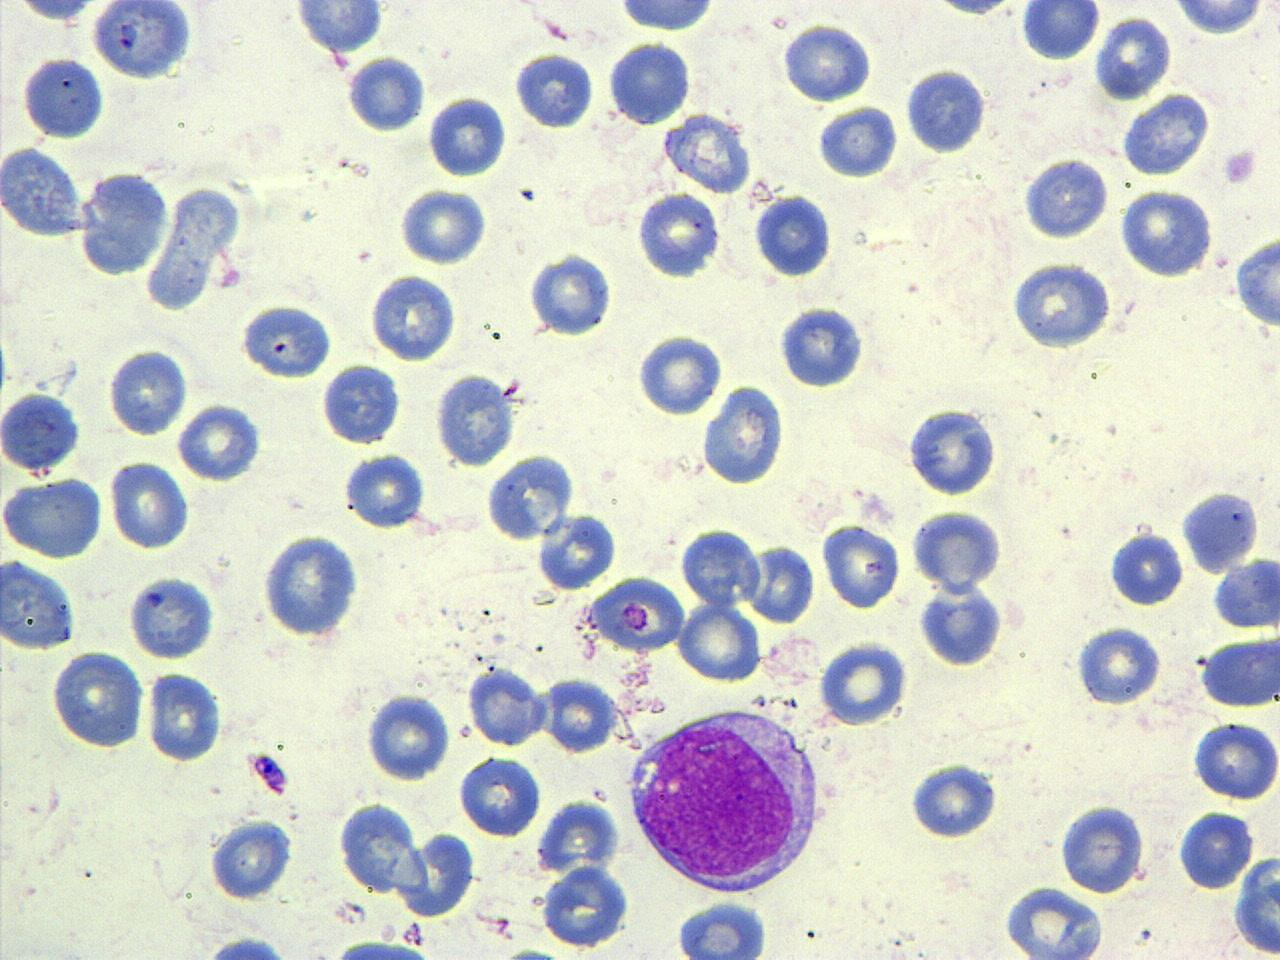Platelets: (200, 934, 289, 960), (1219, 144, 1261, 190), (247, 752, 292, 794), (502, 942, 557, 960), (0, 336, 12, 396), (62, 356, 81, 375), (1137, 928, 1153, 944), (521, 187, 537, 202), (34, 379, 48, 392), (1196, 654, 1208, 669)
RBC: (49, 646, 146, 750), (816, 636, 910, 726), (635, 328, 726, 418), (590, 572, 688, 653), (634, 189, 722, 280), (364, 690, 449, 784), (781, 19, 877, 102), (142, 668, 224, 764), (236, 301, 334, 381), (1073, 620, 1163, 708), (18, 52, 106, 141), (105, 346, 189, 438), (1004, 882, 1104, 960), (175, 398, 264, 485), (1190, 717, 1280, 803), (109, 457, 190, 550), (396, 186, 490, 266), (819, 520, 903, 610), (457, 753, 542, 839), (675, 601, 762, 685), (425, 93, 508, 179), (1176, 806, 1254, 894), (465, 666, 546, 749), (678, 526, 762, 608), (814, 102, 900, 179), (748, 541, 816, 627), (544, 672, 617, 752), (1168, 1, 1272, 40), (11, 0, 98, 26)
WBC: (622, 702, 826, 898), (140, 175, 255, 315), (258, 528, 364, 642), (76, 168, 171, 279), (1010, 256, 1119, 352), (51, 645, 148, 752), (1117, 185, 1217, 279), (0, 476, 106, 564), (366, 268, 462, 365), (904, 405, 1000, 500), (700, 381, 786, 486), (335, 796, 422, 897), (88, 0, 196, 82), (538, 858, 634, 950), (1118, 90, 1214, 181), (1, 142, 89, 242), (484, 450, 577, 544), (534, 795, 626, 889), (1057, 800, 1147, 896), (125, 572, 220, 662), (432, 370, 518, 469), (525, 249, 617, 341), (590, 574, 690, 656), (917, 578, 1008, 670), (910, 504, 1005, 592), (238, 299, 338, 382), (0, 554, 82, 654), (1020, 154, 1112, 244), (206, 814, 298, 903), (1003, 883, 1111, 959), (634, 328, 723, 419), (662, 108, 756, 195), (143, 666, 225, 764), (606, 36, 694, 127), (106, 346, 191, 440), (902, 63, 988, 156), (776, 301, 866, 389), (1074, 621, 1166, 708), (19, 54, 108, 143), (174, 398, 267, 483), (457, 750, 542, 841), (636, 190, 722, 280), (780, 20, 872, 104), (750, 189, 833, 281), (319, 360, 405, 448), (1091, 11, 1171, 103), (1189, 718, 1277, 802), (426, 90, 508, 179), (907, 760, 998, 841), (1, 388, 85, 475), (1180, 486, 1262, 575), (534, 506, 620, 590), (342, 449, 428, 531), (1174, 805, 1254, 894), (396, 830, 477, 918), (512, 47, 595, 131), (814, 101, 900, 182), (1106, 525, 1184, 611), (345, 52, 428, 132), (1197, 634, 1279, 710), (673, 898, 772, 960), (1211, 554, 1279, 634), (289, 1, 386, 55), (1231, 850, 1280, 956), (1018, 1, 1101, 64), (1232, 231, 1280, 332), (1165, 0, 1273, 36), (321, 931, 449, 960), (612, 0, 721, 32)
